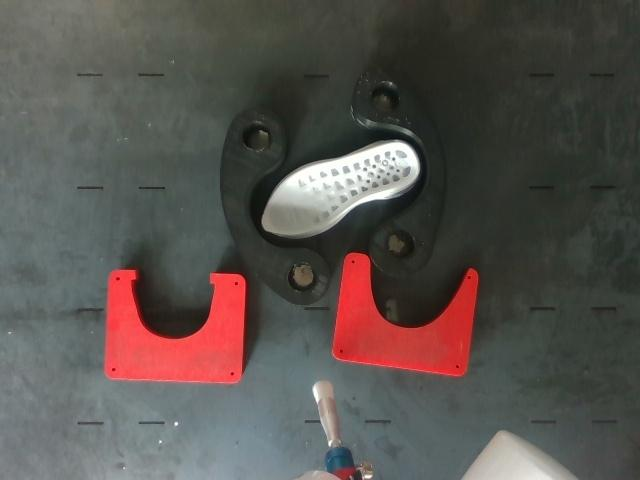shoes: (262, 142, 417, 235)
